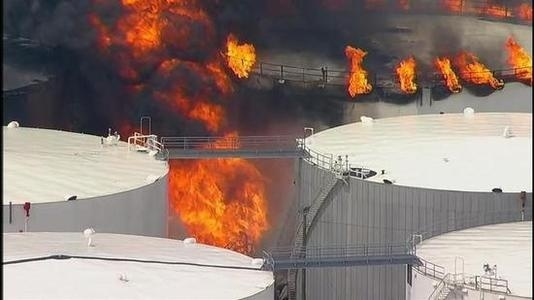fire: (101, 2, 253, 137), (167, 157, 272, 251), (433, 49, 498, 90), (343, 43, 369, 98), (503, 35, 531, 80), (394, 55, 418, 91)
